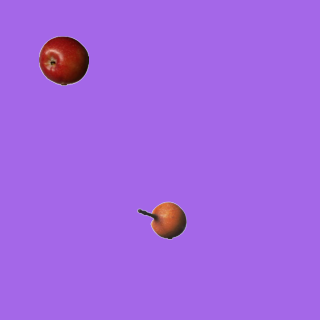Apple Braeburn: (38, 35, 88, 85)
Granadilla: (136, 195, 186, 245)
